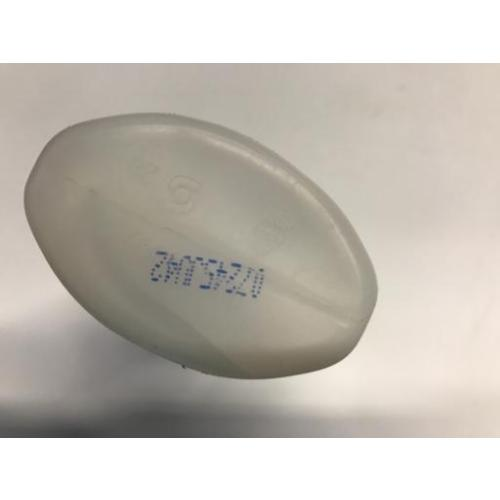plastic: (24, 112, 379, 378)
